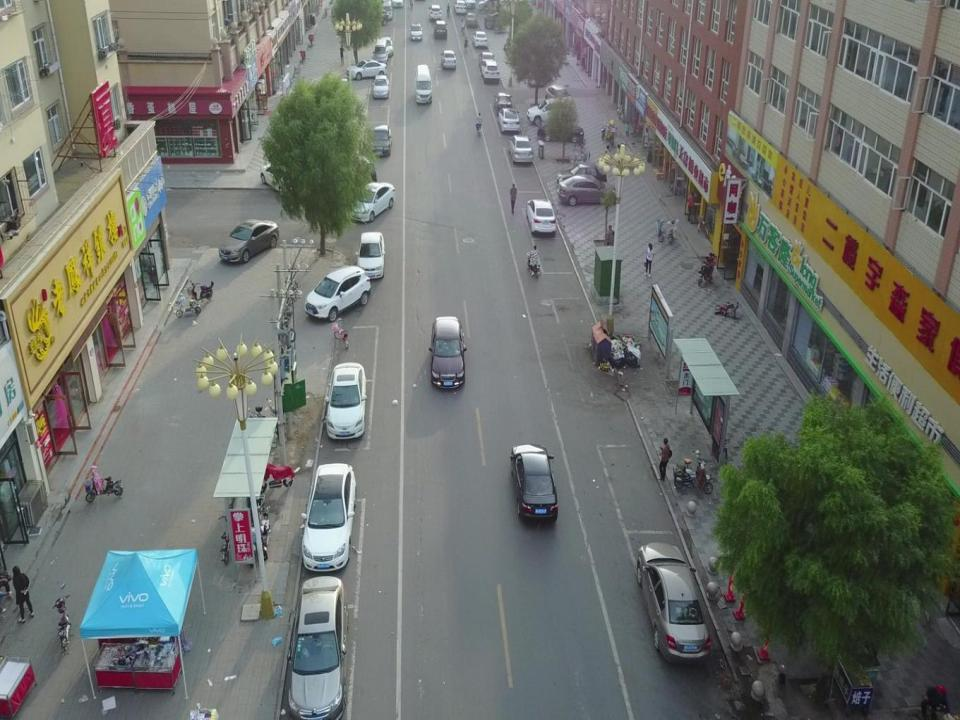car: (637, 542, 711, 665), (286, 575, 348, 720), (300, 462, 356, 573), (304, 264, 372, 322), (510, 442, 558, 524), (324, 362, 366, 441), (428, 315, 468, 390), (218, 218, 279, 264), (557, 174, 618, 206), (349, 182, 396, 223), (260, 162, 306, 199), (556, 162, 607, 192), (84, 465, 124, 503), (355, 232, 386, 280), (343, 152, 377, 195), (52, 592, 74, 656), (527, 97, 573, 125), (536, 120, 584, 143), (527, 199, 556, 236), (346, 59, 387, 80), (508, 134, 534, 165), (545, 84, 573, 112), (370, 124, 392, 157), (498, 106, 520, 134), (494, 92, 514, 116), (480, 60, 499, 85), (372, 74, 390, 100), (483, 11, 507, 29), (478, 50, 495, 71), (367, 10, 389, 26), (440, 50, 456, 70), (432, 20, 448, 40), (472, 30, 488, 50), (380, 37, 394, 57), (409, 22, 423, 42), (428, 4, 442, 22), (453, 0, 467, 15), (465, 12, 478, 28), (478, 0, 500, 9), (464, 0, 476, 8)
truck: (527, 60, 554, 88)
van: (414, 64, 434, 104), (373, 38, 388, 68), (380, 0, 392, 21)
